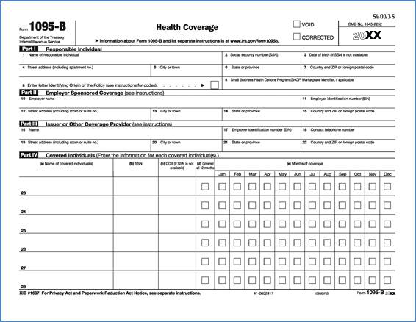checkbox: (198, 180, 211, 192), (216, 180, 229, 192), (230, 179, 243, 191), (245, 180, 258, 192), (290, 180, 303, 192), (321, 180, 334, 192), (366, 180, 379, 192), (381, 198, 394, 210), (261, 180, 273, 192), (276, 180, 288, 192), (306, 180, 318, 192), (336, 180, 348, 192), (351, 180, 363, 192), (381, 180, 393, 192), (366, 198, 378, 210), (351, 198, 363, 210), (321, 198, 333, 210), (306, 198, 318, 210), (292, 198, 304, 210), (276, 198, 288, 210), (216, 198, 228, 210), (199, 198, 211, 210), (216, 217, 228, 229), (246, 217, 258, 229), (381, 236, 393, 248), (367, 236, 379, 248), (352, 235, 364, 247), (321, 236, 333, 248), (306, 236, 318, 248), (291, 235, 303, 247), (276, 236, 288, 248), (246, 235, 258, 247), (216, 235, 228, 247), (199, 235, 211, 247), (198, 254, 210, 266), (216, 254, 228, 266), (246, 255, 258, 267), (276, 255, 288, 267), (291, 255, 303, 267), (306, 255, 318, 267), (321, 254, 333, 266), (336, 254, 348, 266), (351, 254, 363, 266), (366, 255, 378, 267), (381, 273, 393, 285), (351, 273, 363, 285), (337, 198, 348, 210), (262, 198, 273, 210), (246, 198, 258, 209), (232, 198, 243, 210), (198, 218, 210, 229), (232, 217, 243, 229), (261, 218, 273, 229), (292, 218, 304, 229), (306, 218, 318, 229), (321, 218, 333, 229), (351, 218, 363, 229), (366, 218, 378, 229), (381, 218, 393, 229), (337, 236, 348, 248), (262, 236, 273, 248), (232, 235, 243, 247), (232, 254, 243, 266), (262, 255, 273, 267), (381, 255, 392, 267), (366, 273, 378, 284), (337, 273, 348, 285), (321, 273, 333, 284), (306, 273, 318, 284), (291, 273, 303, 284), (247, 273, 259, 284), (216, 273, 228, 284), (199, 273, 211, 284), (209, 79, 220, 90), (276, 218, 287, 229), (337, 218, 348, 229), (276, 273, 287, 284), (262, 273, 273, 284), (232, 273, 243, 284), (291, 19, 302, 29), (292, 32, 301, 41)
textbox: (18, 93, 302, 110), (16, 124, 223, 140), (18, 51, 223, 65), (220, 76, 396, 91), (16, 105, 153, 121), (16, 137, 153, 153), (17, 212, 115, 234), (18, 232, 115, 254), (16, 175, 114, 196), (17, 194, 115, 215), (17, 63, 154, 78), (18, 250, 115, 271), (18, 270, 115, 291), (299, 93, 398, 109), (299, 124, 398, 140), (301, 137, 399, 153), (301, 62, 397, 78), (299, 106, 398, 121), (300, 50, 396, 65), (219, 124, 302, 140), (220, 50, 303, 65), (220, 62, 303, 77), (220, 106, 303, 121), (220, 136, 303, 151), (111, 174, 160, 198), (111, 193, 160, 217), (111, 230, 160, 254), (111, 249, 160, 273), (112, 267, 162, 290), (111, 212, 160, 235), (149, 63, 224, 78), (149, 137, 224, 152), (149, 106, 223, 121), (155, 269, 197, 290), (156, 195, 198, 215), (157, 214, 199, 234), (156, 232, 198, 252), (156, 251, 198, 271), (157, 176, 198, 196)
